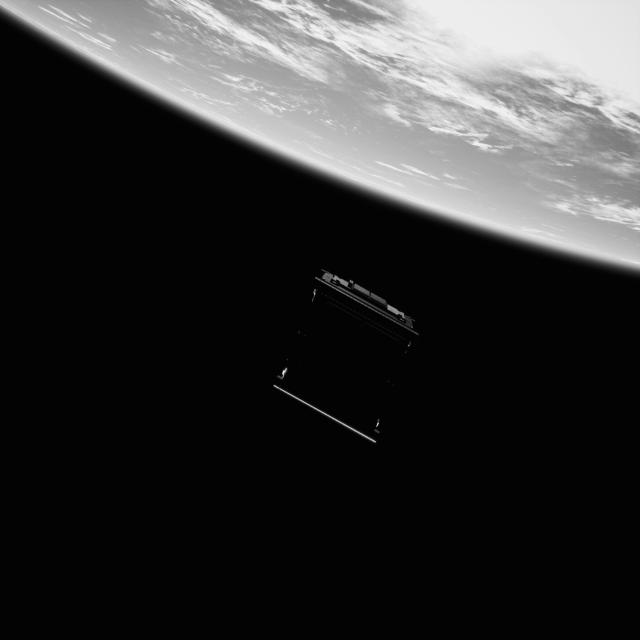medium_debris: (267, 264, 425, 452)
